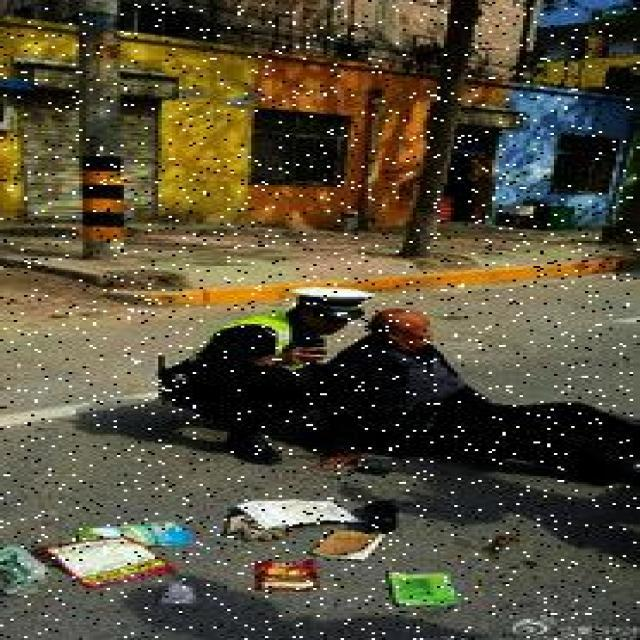fall: (337, 312, 637, 470)
